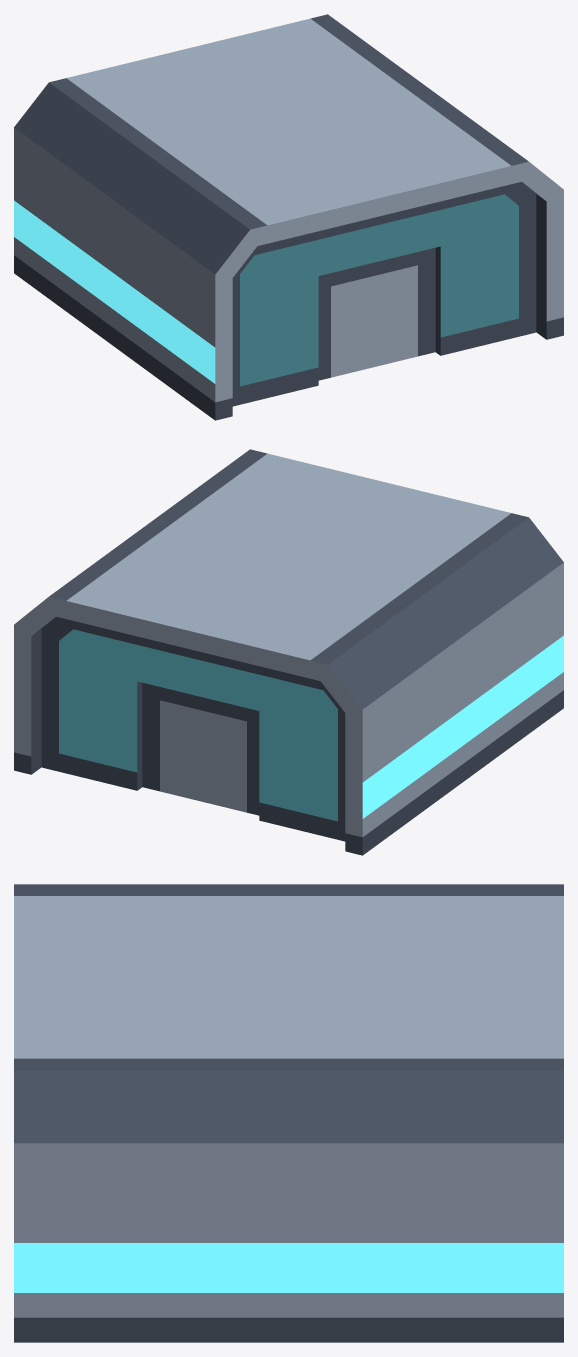
Rendered from hangar_smallA.glb.
3 views of the same model, one above another, from view 1: azimuth 30°, elevation 25°; view 2: azimuth 150°, elevation 25°; view 3: azimuth 270°, elevation 25° (orthographic). The views are drawn at different scales.
Visible parts, largest first — view 1: hangar_smallA, gate.001; view 2: hangar_smallA, gate; view 3: hangar_smallA.
Boxes of the visible parts, bbox=[...] form: hangar_smallA: bbox=[14, 14, 563, 420]; gate.001: bbox=[232, 182, 536, 406]; hangar_smallA: bbox=[14, 449, 563, 855]; gate: bbox=[41, 617, 345, 841]; hangar_smallA: bbox=[14, 884, 563, 1342].
Bounding box in the file's own units: 2 × 1 × 2.
